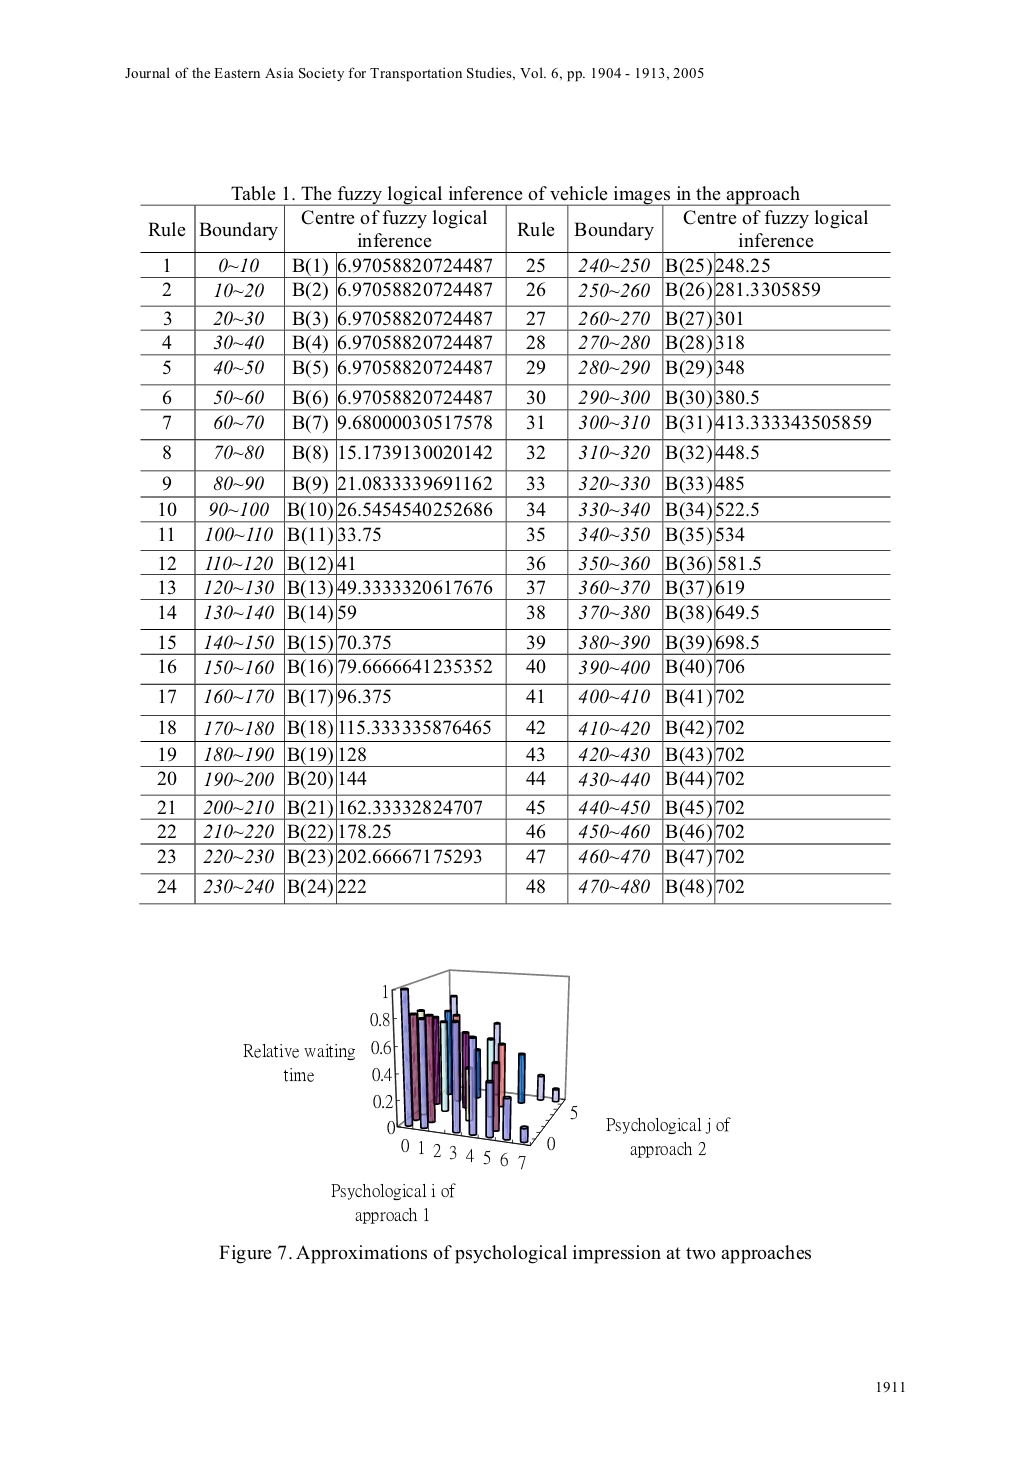Table: (139, 203, 892, 904)
figure: (243, 969, 730, 1223)
